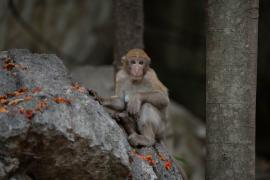monkey: (101, 45, 177, 148)
